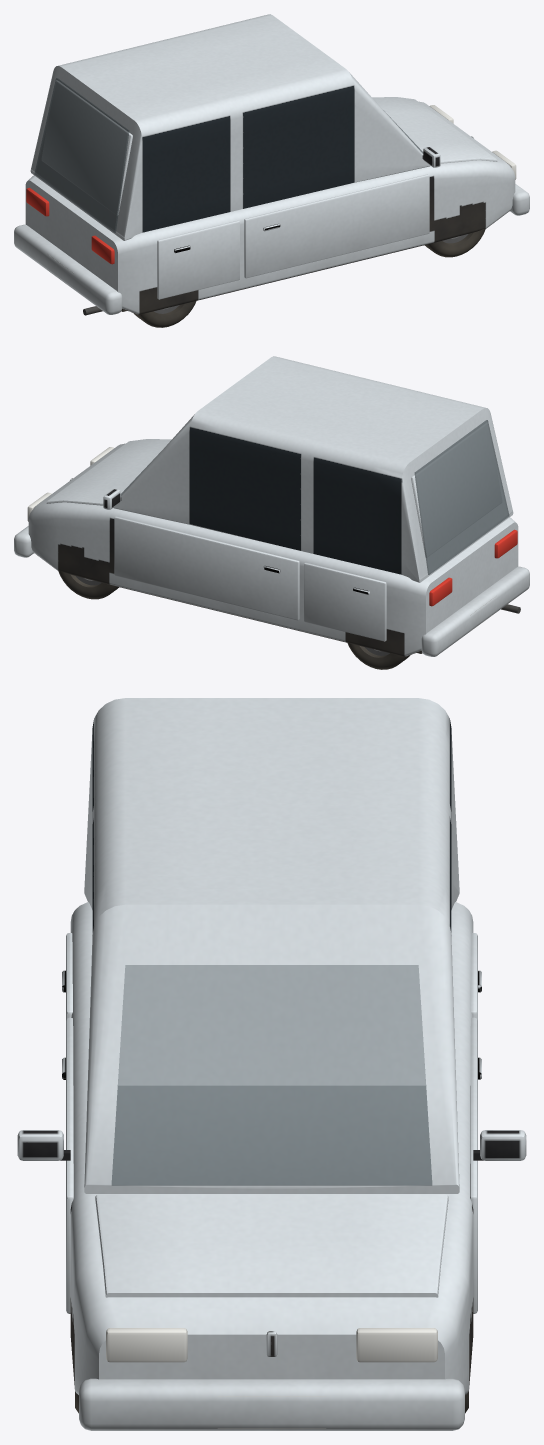
The model's file is kei-car.glb.
3 renders of one model, top to bottom at view 1: azimuth 30°, elevation 25°; view 2: azimuth 150°, elevation 25°; view 3: azimuth 270°, elevation 25°, orthographic. The views are drawn at different scales.
Parts seen in each view (by area): view 1: body, door_fr, glass_rear, trunk, door_rr, hood, bumper_rear, wheel_fr_tire, wheel_rr_tire, bumper_front, taillight_left, taillight_right; view 2: body, door_fl, glass_rear, trunk, door_rl, hood, bumper_rear, wheel_fl_tire, wheel_rl_tire, bumper_front, taillight_left, taillight_right; view 3: body, glass_windshield, hood, bumper_front, headlight_left, headlight_right, door_fl, door_fr.
Part boxes in pixels (x1=…): body: x1=25, y1=14, x2=515, y2=315; door_fr: x1=244, y1=174, x2=429, y2=278; glass_rear: x1=34, y1=78, x2=129, y2=232; trunk: x1=42, y1=80, x2=132, y2=215; door_rr: x1=157, y1=220, x2=239, y2=299; hood: x1=372, y1=97, x2=497, y2=163; bumper_rear: x1=14, y1=224, x2=122, y2=314; wheel_fr_tire: x1=425, y1=229, x2=485, y2=257; wheel_rr_tire: x1=133, y1=301, x2=196, y2=327; bumper_front: x1=510, y1=184, x2=529, y2=215; taillight_left: x1=26, y1=187, x2=49, y2=216; taillight_right: x1=91, y1=235, x2=114, y2=264; body: x1=28, y1=356, x2=520, y2=656; door_fl: x1=114, y1=516, x2=299, y2=620; glass_rear: x1=414, y1=420, x2=509, y2=574; trunk: x1=411, y1=422, x2=501, y2=557; door_rl: x1=304, y1=562, x2=386, y2=641; hood: x1=46, y1=439, x2=171, y2=505; bumper_rear: x1=421, y1=566, x2=529, y2=656; wheel_fl_tire: x1=58, y1=571, x2=118, y2=599; wheel_rl_tire: x1=347, y1=643, x2=410, y2=669; bumper_front: x1=14, y1=526, x2=33, y2=557; taillight_left: x1=429, y1=577, x2=452, y2=606; taillight_right: x1=494, y1=529, x2=517, y2=558; body: x1=17, y1=698, x2=526, y2=1428; glass_windshield: x1=111, y1=965, x2=432, y2=1185; hood: x1=95, y1=1194, x2=448, y2=1297; bumper_front: x1=79, y1=1378, x2=464, y2=1430; headlight_left: x1=356, y1=1328, x2=437, y2=1362; headlight_right: x1=106, y1=1328, x2=187, y2=1362; door_fl: x1=470, y1=1017, x2=481, y2=1313; door_fr: x1=62, y1=1017, x2=73, y2=1313.
Size of what is drawn, in the model's own units: 3.64 by 1.66 by 1.87.
6 materials, 5 textured.
